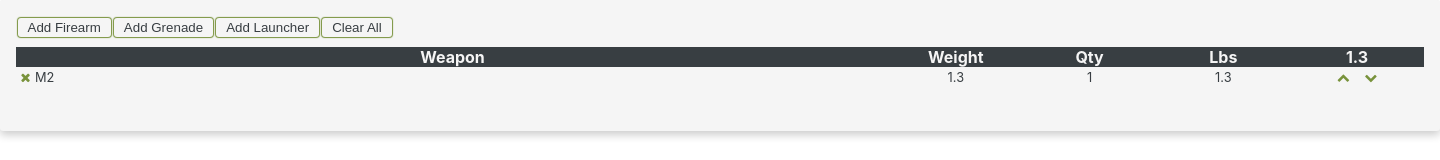
Test case: weapons card intergration tests › selecting grenades › should be possible to remove grenade
The image size is (1440, 160).
Click the button with class "button--close" at (26, 77), box [18,69,34,85]
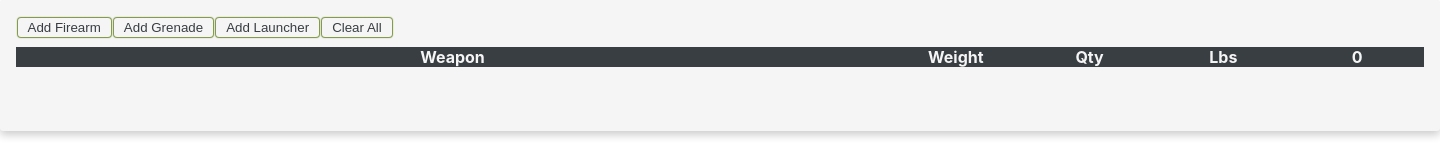
expect the element with class "gear-table-row--container" is gone: met
